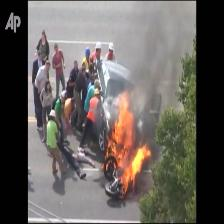fire: (116, 111, 139, 183)
smoke: (140, 30, 181, 107)
